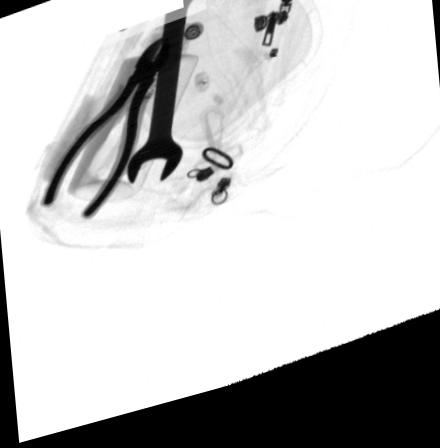Pliers: (41, 41, 172, 226)
Wrench: (126, 0, 204, 191)
